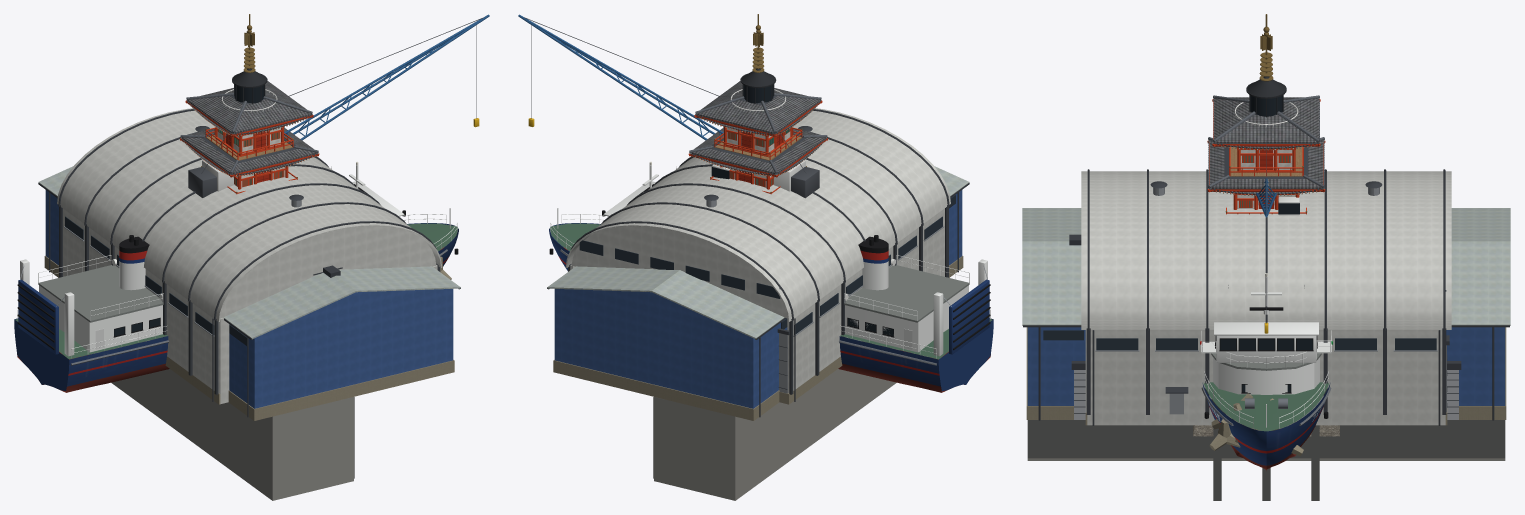
The model's file is props_japan.glb.
The picture shows the model from 3 angles, left to right: view 1: azimuth 30°, elevation 25°; view 2: azimuth 150°, elevation 25°; view 3: azimuth 270°, elevation 25°; orthographic projection. The views are drawn at different scales.
Visible parts, largest first — view 1: hangar_a__b_corr_white, pshed_a__b_corr_blue, ferry_jp__f_vc, quay_seg__f_vc, hangar_a__f_vc, pshed_a__b_iron, pagoda@1__b_kawara_flat, pagoda__f_vc, jib_crane__f_vc, pshed_a__b_concrete, ferry_jp__hull_ferry_jp, pagoda@1__f_vc (+4 smaller); view 2: hangar_a__b_corr_white, pshed_a__b_corr_blue, ferry_jp__f_vc, quay_seg__f_vc, hangar_a__f_vc, pshed_a__b_iron, pagoda@1__b_kawara_flat, jib_crane__f_vc, pshed_a__b_concrete, pagoda__f_vc, ferry_jp__hull_ferry_jp, pagoda@1__f_vc (+4 smaller); view 3: hangar_a__b_corr_white, quay_seg__f_vc, pshed_a__b_iron, ferry_jp__f_vc, hangar_a__f_vc, pshed_a__b_corr_blue, pagoda@1__b_kawara_flat, pagoda__f_vc, pshed_a__f_vc, ferry_jp__hull_ferry_jp, pagoda@1__f_vc, pshed_a__b_concrete (+6 smaller).
Boxes of the visible parts, box(x1,y1,x2,y2) form: hangar_a__b_corr_white: box(57, 108, 442, 404); pshed_a__b_corr_blue: box(45, 190, 453, 408); ferry_jp__f_vc: box(14, 161, 458, 392); quay_seg__f_vc: box(111, 369, 354, 500); hangar_a__f_vc: box(58, 109, 440, 401); pshed_a__b_iron: box(38, 166, 460, 339); pagoda@1__b_kawara_flat: box(182, 81, 316, 173); pagoda__f_vc: box(180, 14, 319, 193); jib_crane__f_vc: box(188, 14, 489, 197); pshed_a__b_concrete: box(44, 256, 454, 420); ferry_jp__hull_ferry_jp: box(14, 223, 458, 386); pagoda@1__f_vc: box(180, 14, 318, 194); hangar_a__b_corr_white: box(565, 108, 950, 393); pshed_a__b_corr_blue: box(554, 190, 962, 408); ferry_jp__f_vc: box(549, 161, 993, 392); quay_seg__f_vc: box(653, 369, 896, 500); hangar_a__f_vc: box(568, 109, 949, 401); pshed_a__b_iron: box(547, 166, 969, 339); pagoda@1__b_kawara_flat: box(691, 81, 825, 173); jib_crane__f_vc: box(518, 14, 819, 198); pshed_a__b_concrete: box(553, 256, 963, 420); pagoda__f_vc: box(688, 14, 827, 193); ferry_jp__hull_ferry_jp: box(549, 223, 993, 386); pagoda@1__f_vc: box(689, 14, 827, 194); hangar_a__b_corr_white: box(1081, 171, 1451, 425); quay_seg__f_vc: box(1027, 420, 1505, 460); pshed_a__b_iron: box(1022, 208, 1510, 325); ferry_jp__f_vc: box(1200, 273, 1332, 470); hangar_a__f_vc: box(1086, 169, 1449, 425); pshed_a__b_corr_blue: box(1027, 327, 1505, 405); pagoda@1__b_kawara_flat: box(1209, 97, 1323, 188); pagoda__f_vc: box(1207, 14, 1325, 212); pshed_a__f_vc: box(1023, 234, 1509, 420); ferry_jp__hull_ferry_jp: box(1202, 383, 1330, 465); pagoda@1__f_vc: box(1208, 14, 1324, 214); pshed_a__b_concrete: box(1026, 327, 1506, 419).
Size of the model in its own units: 50.2 by 41.32 by 40.9.
24 materials, 20 textured.
